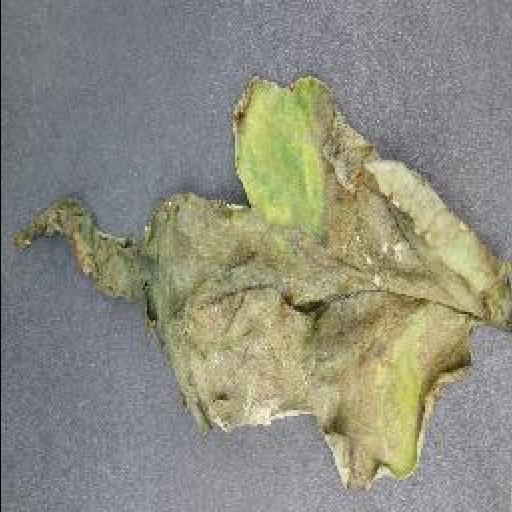disease_tomato: (12, 70, 512, 492)
